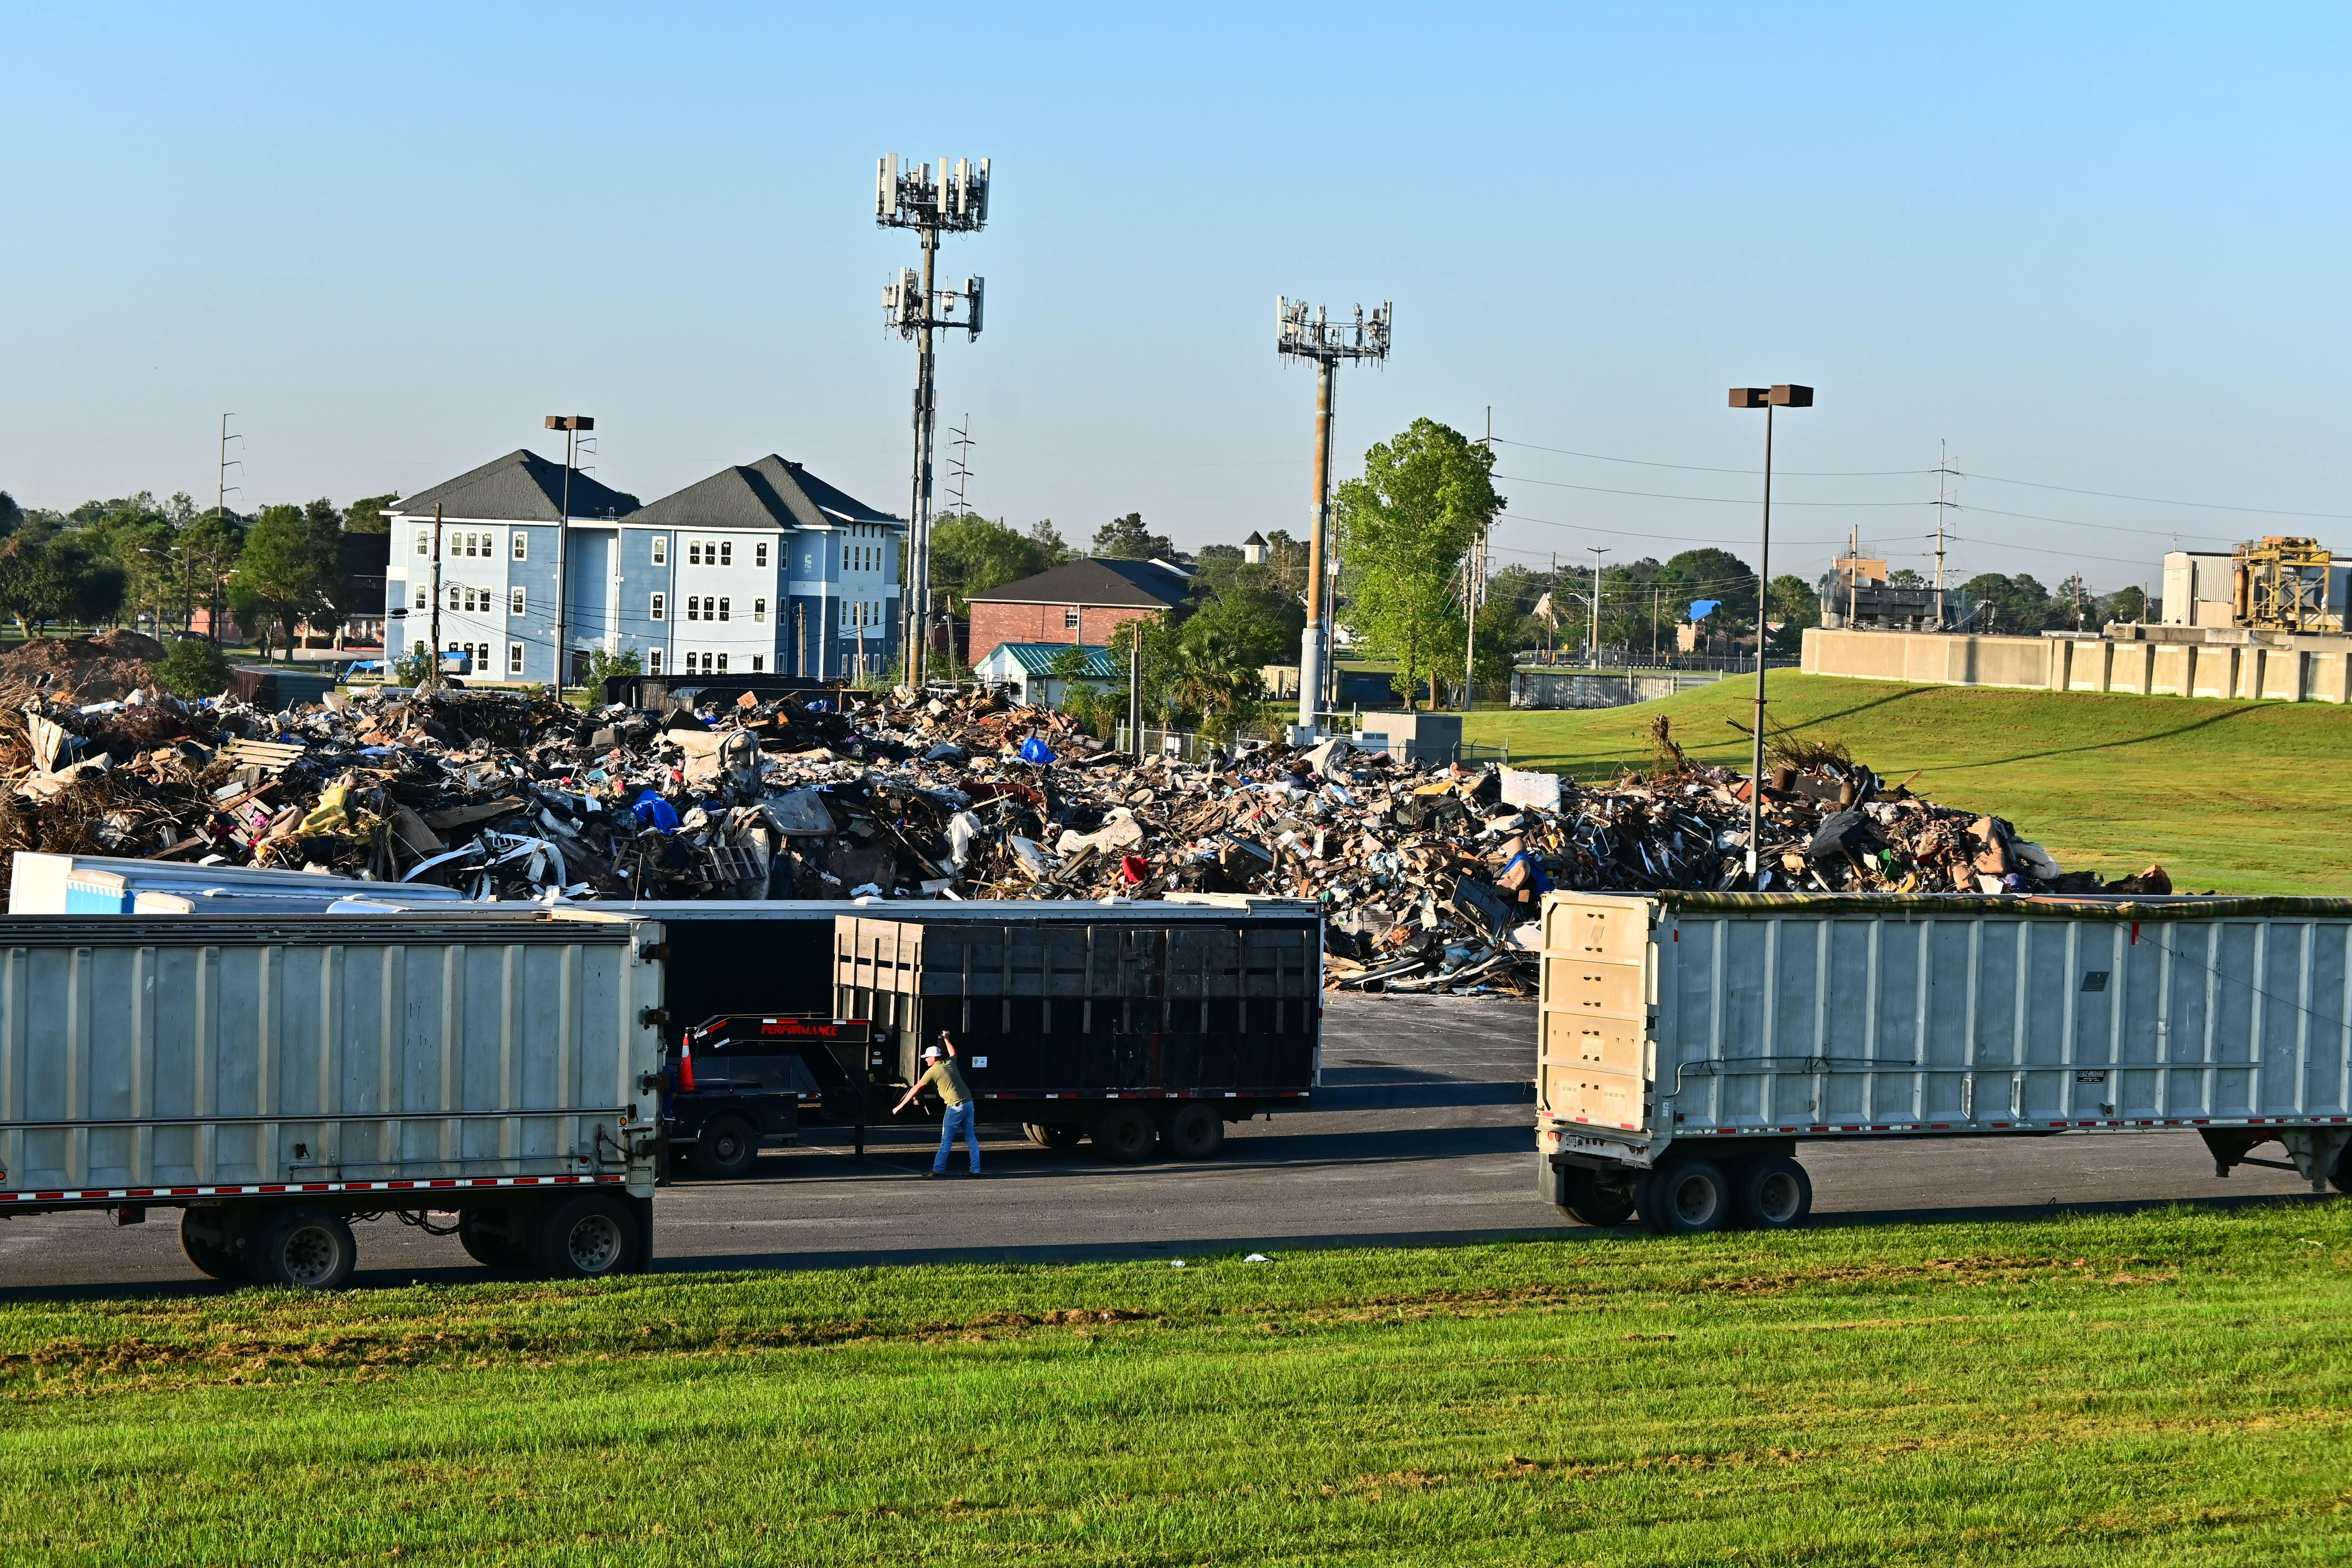affected: (383, 439, 919, 676)
